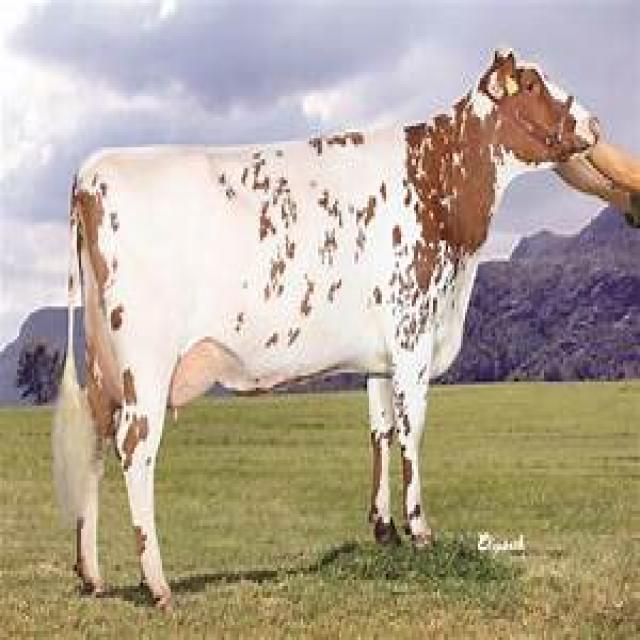cow: (54, 53, 598, 599)
